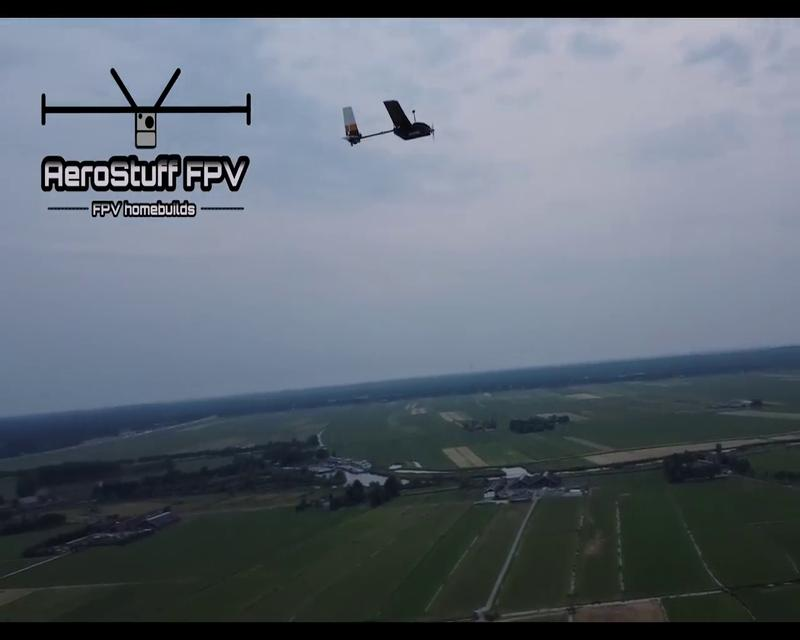UAV: (340, 98, 435, 150)
